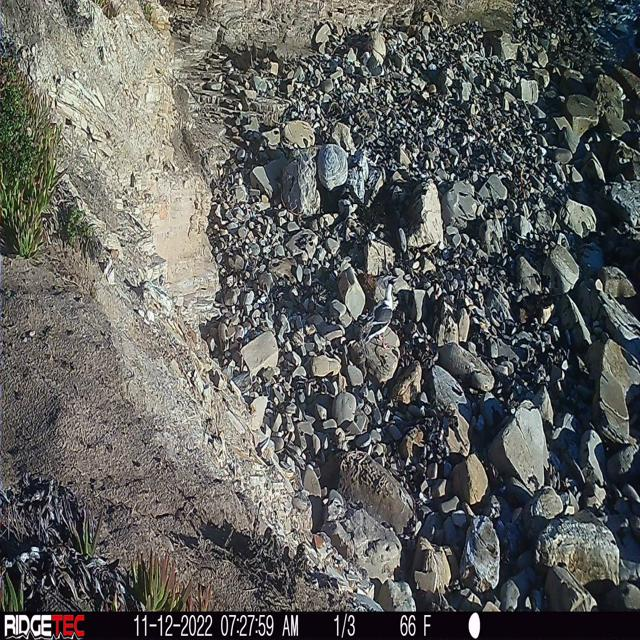bird: (367, 270, 400, 344)
